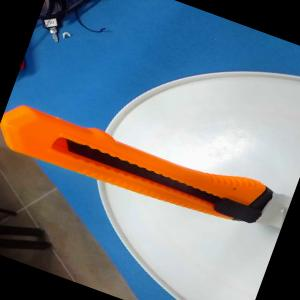estilete: (0, 90, 277, 239)
